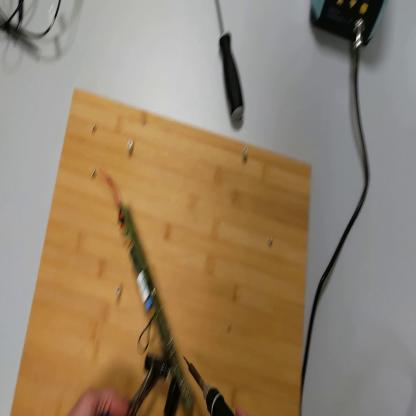hand: (67, 386, 130, 413), (231, 399, 249, 416)
high voltage board: (99, 160, 197, 416)
oscilloscope probe tip: (3, 3, 46, 46)
pliers: (132, 356, 163, 414)
screwdriver-: (215, 4, 245, 121)
welder probe tip: (184, 357, 237, 416)
welder station: (308, 1, 390, 56)
working area: (10, 89, 314, 415)
